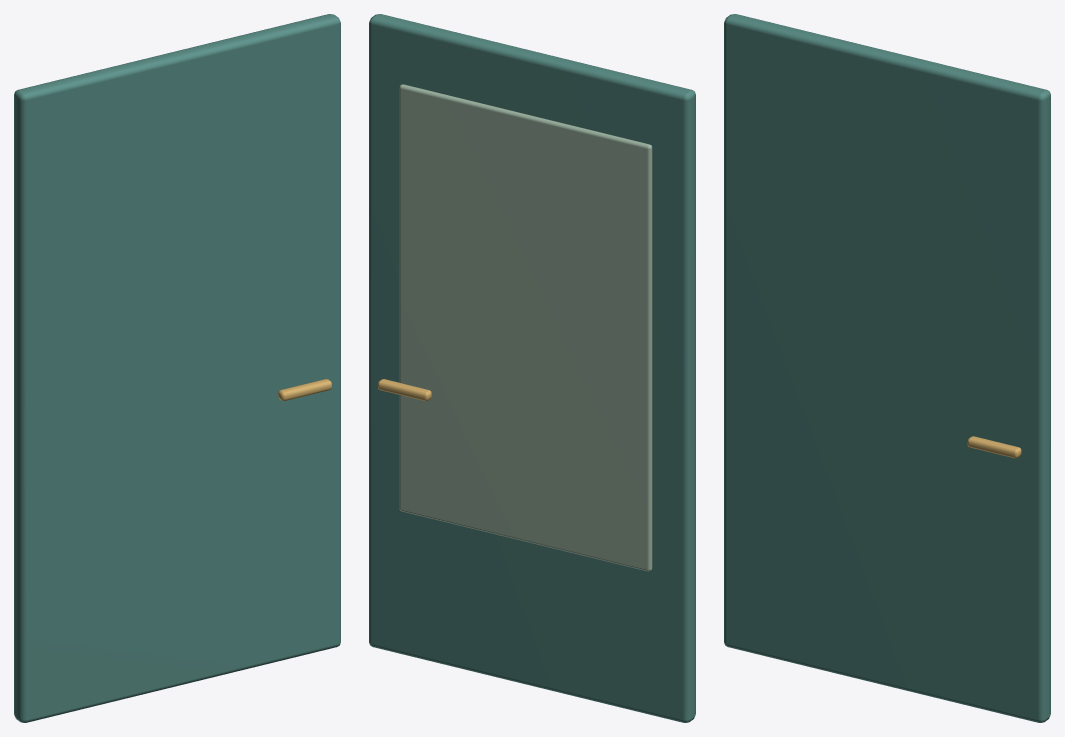
The model's file is door.glb.
The picture shows the model from 3 angles, left to right: view 1: azimuth 30°, elevation 25°; view 2: azimuth 150°, elevation 25°; view 3: azimuth 330°, elevation 25°; orthographic projection.
Parts seen in each view (by area): view 1: Door, Brass lever; view 2: Raised panel, Door, Brass lever; view 3: Door, Brass lever.
Part boxes in pixels (bbox=[...]): Door: bbox=[14, 14, 340, 722]; Brass lever: bbox=[278, 379, 331, 400]; Raised panel: bbox=[399, 84, 652, 571]; Door: bbox=[369, 14, 695, 722]; Brass lever: bbox=[378, 379, 431, 400]; Door: bbox=[724, 14, 1050, 722]; Brass lever: bbox=[967, 436, 1021, 458].
Bounding box in the file's own units: 1.26 × 2.36 × 0.18.
